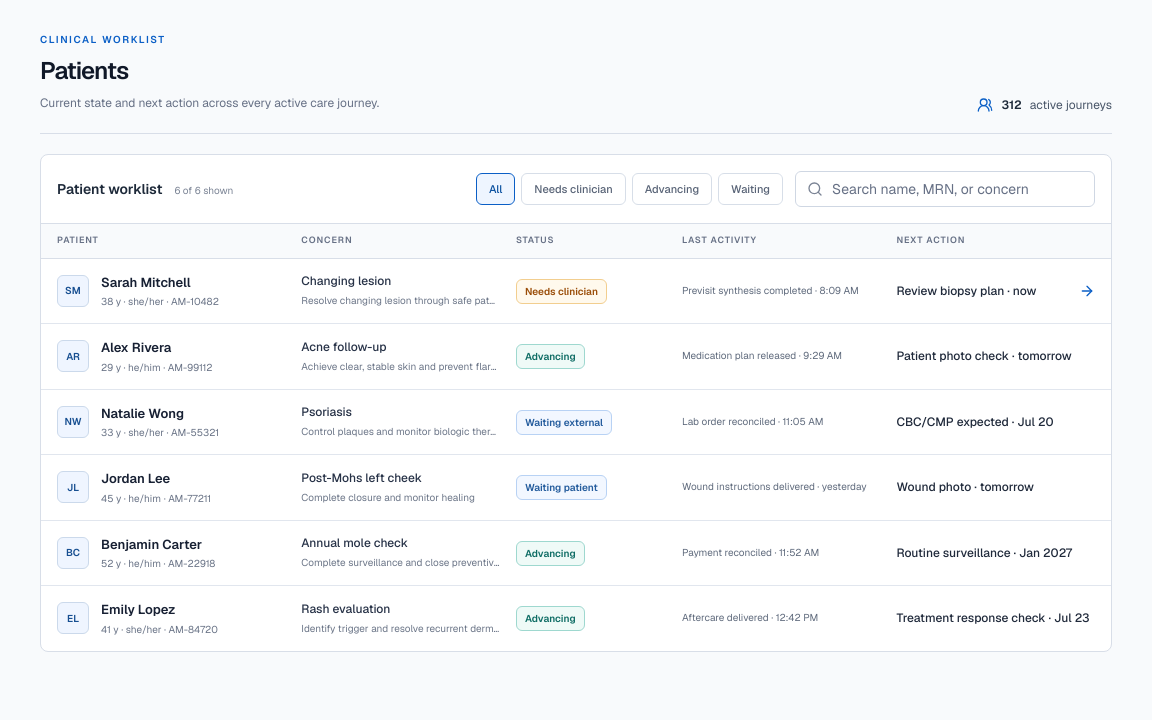
PatientsScreen › searches and filters without losing concise patient context
Click the button "Waiting".
click(751, 189)  # box [718,173,783,205]
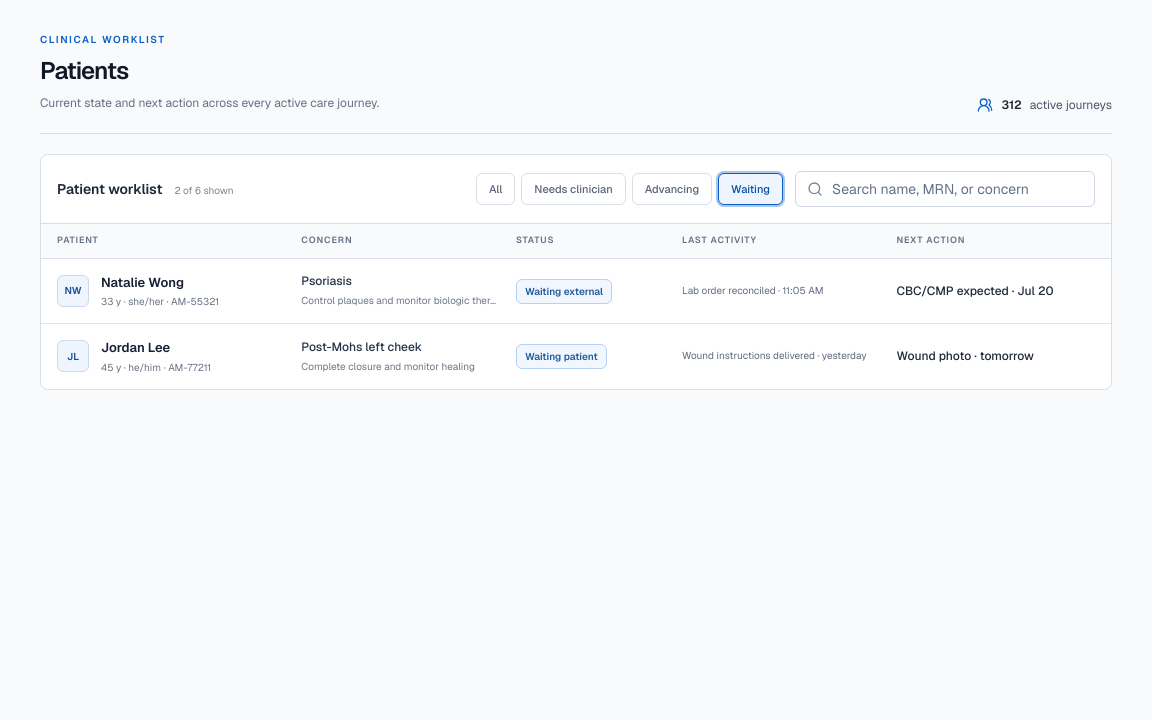
Expected: the text "Natalie Wong" is shown, [101,274,184,290]
Expected: the link "Sarah Mitchell" is gone
Type "psoriasis" into the field named "Search patients".
click(945, 189); type("psoriasis")  # box [795,171,1095,207]
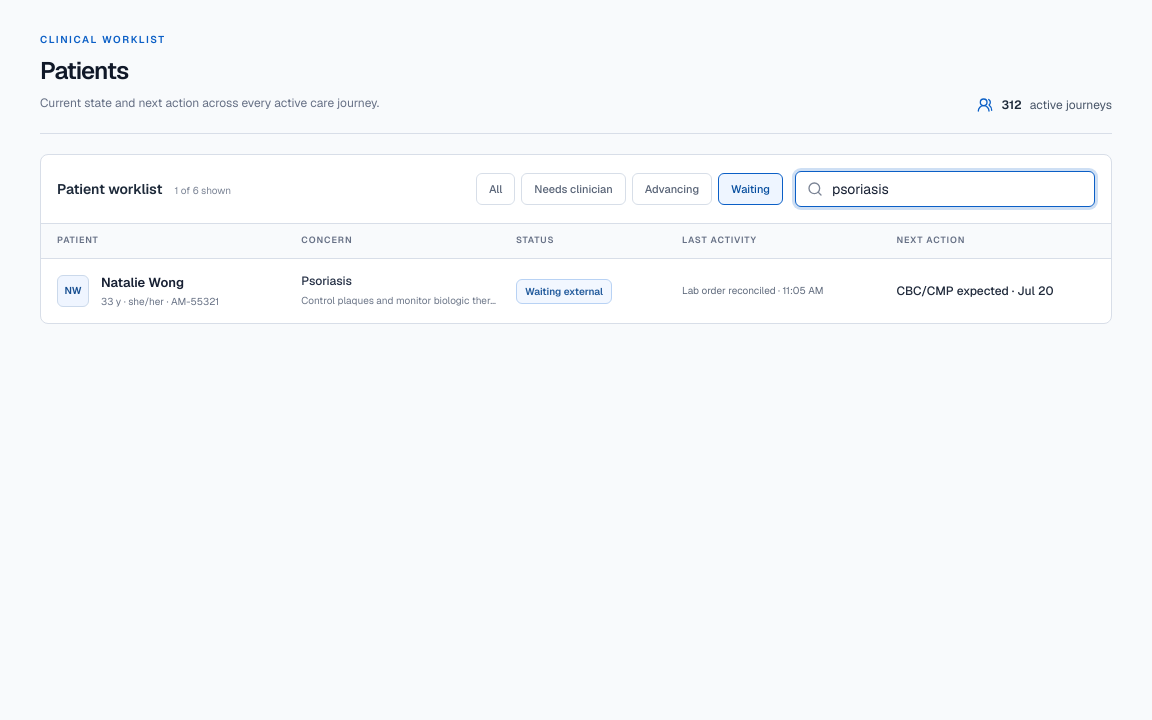
Expected: the text "Natalie Wong" is shown, [101,274,184,290]
Expected: the text "Jordan Lee" is gone
